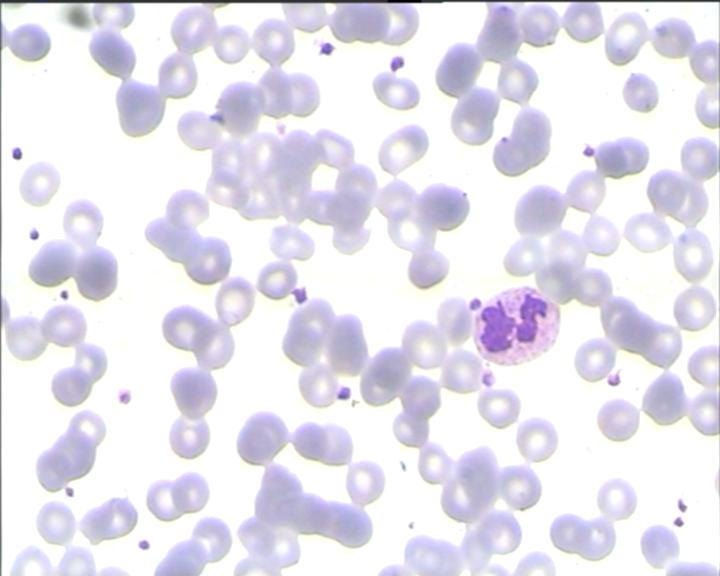neut: (471, 283, 561, 368)
